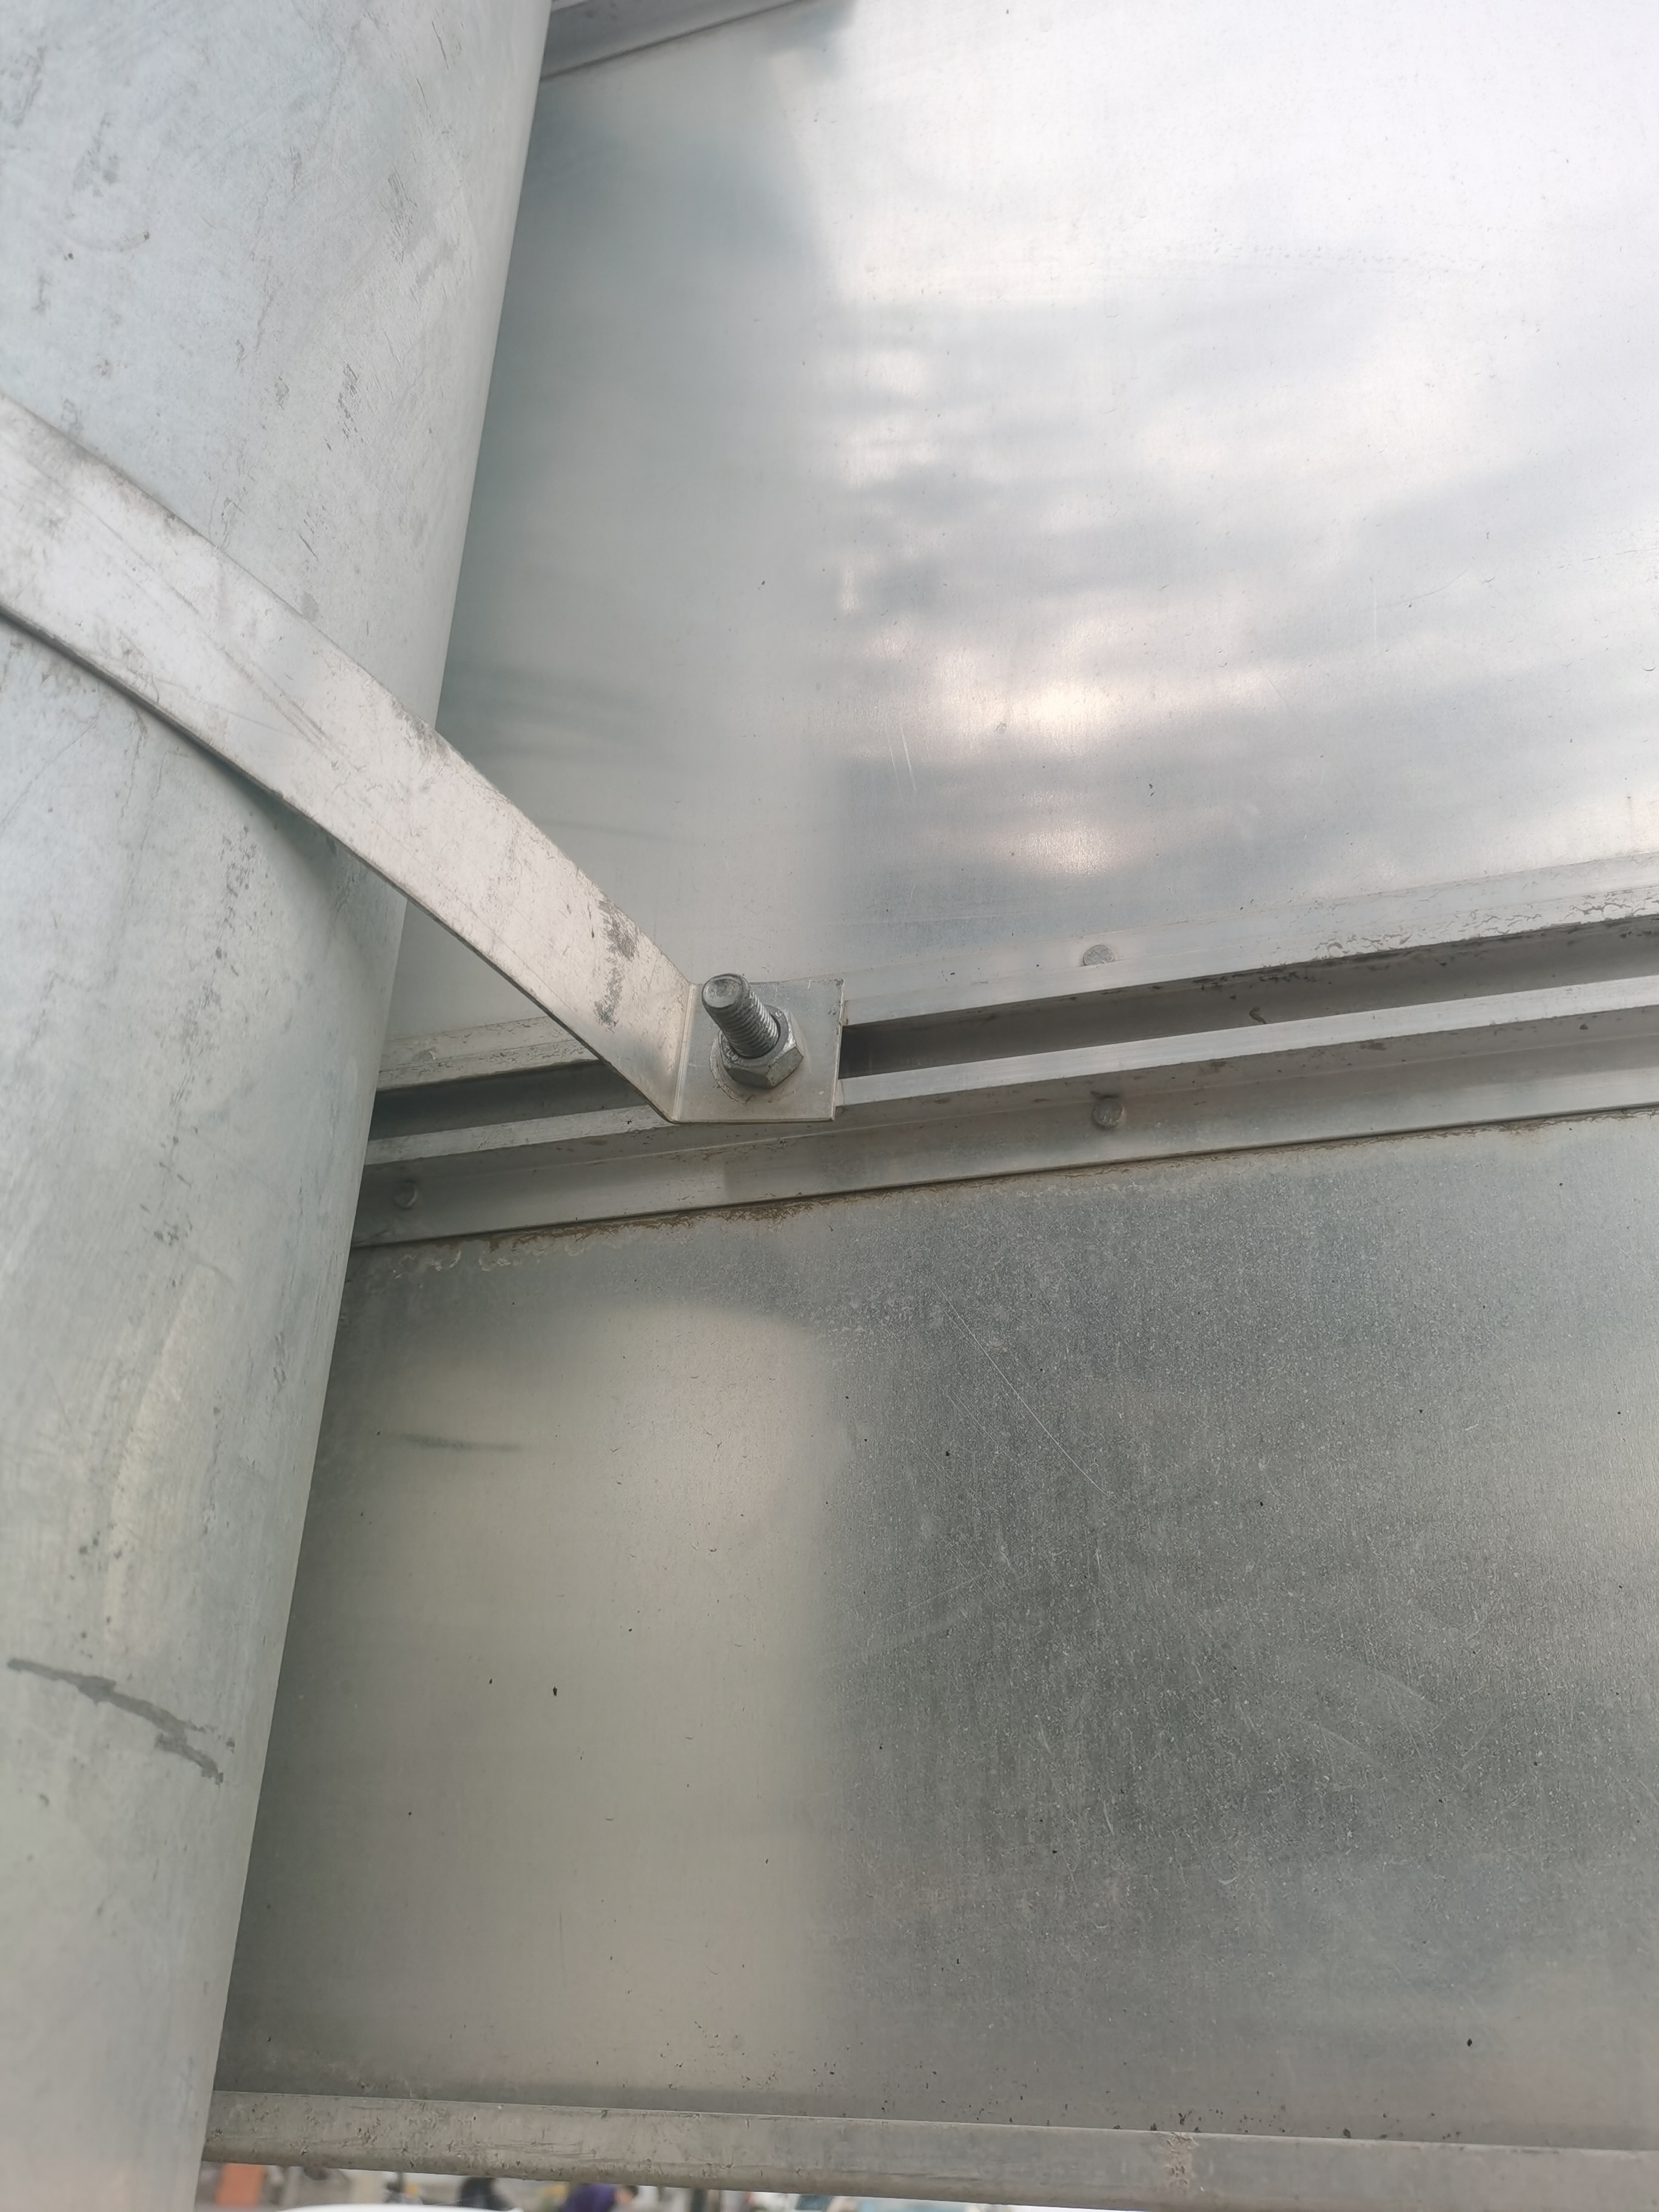bolt_b: (714, 1000, 807, 1096)
